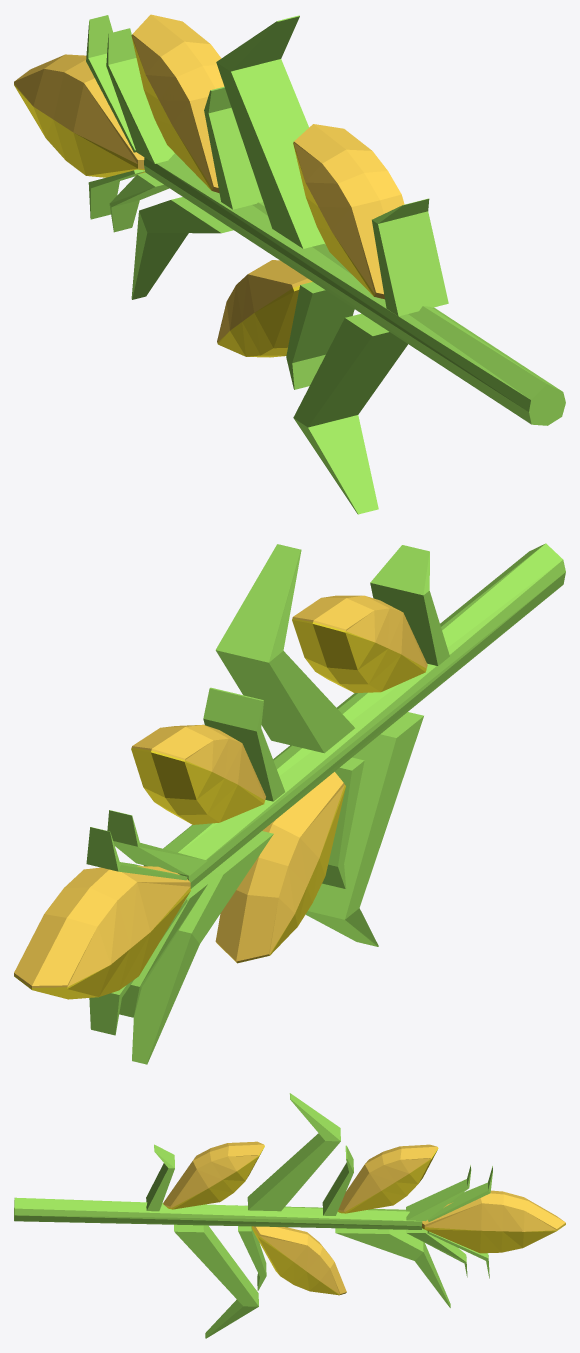
Rendered from maiz 1.fbx.
The picture shows the model from 3 angles, top to bottom: view 1: azimuth 30°, elevation 25°; view 2: azimuth 150°, elevation 25°; view 3: azimuth 270°, elevation 25°; orthographic projection. The views are drawn at different scales.
Visible parts, largest first — view 1: Object_3.001; view 2: Object_3.001; view 3: Object_3.001.
Part boxes in pixels (box(x1,y1,x2,y2)): Object_3.001: box(14, 14, 565, 514); Object_3.001: box(14, 543, 565, 1064); Object_3.001: box(14, 1093, 565, 1338).
Size of the model in its own units: 122 by 641 by 1341.
